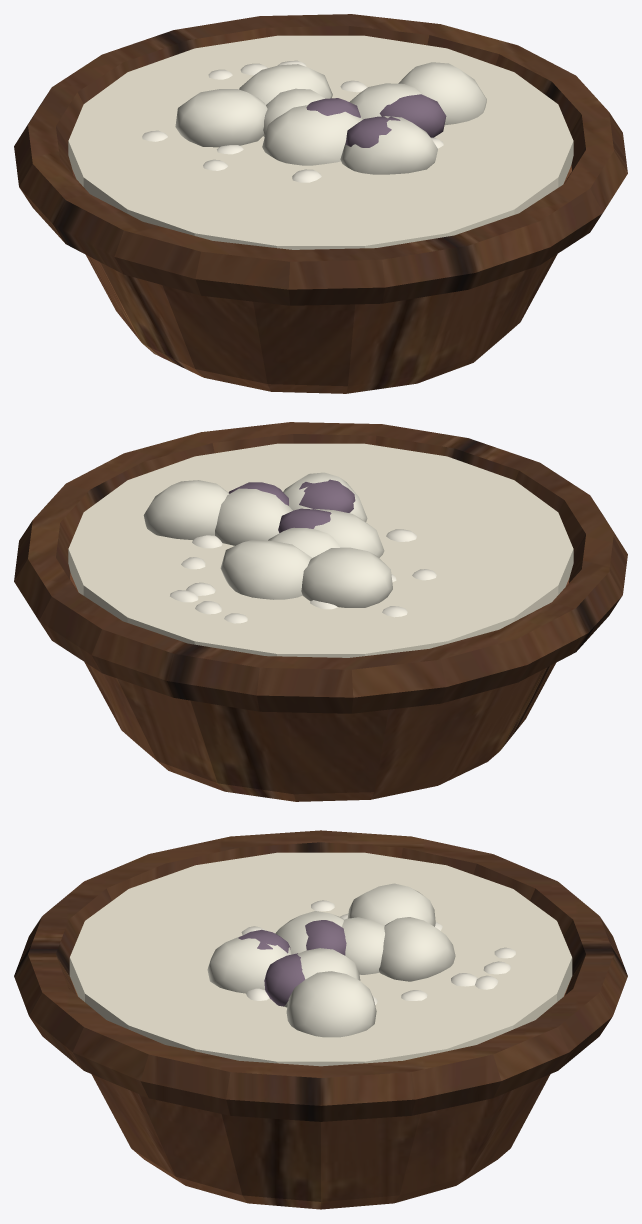
The model's file is dish_truffle_risotto.glb.
3 views of the same model, one above another, from view 1: azimuth 30°, elevation 25°; view 2: azimuth 150°, elevation 25°; view 3: azimuth 270°, elevation 25° (orthographic).
Parts seen in each view (by area): view 1: model; view 2: model; view 3: model.
Boxes of the visible parts, box(x1,y1,x2,y2) form: model: box(14, 14, 627, 393); model: box(14, 422, 627, 801); model: box(14, 830, 627, 1209).
Bounding box in the file's own units: 0.264 × 0.1024 × 0.264.
Materials: 6 (2 with a texture image).
